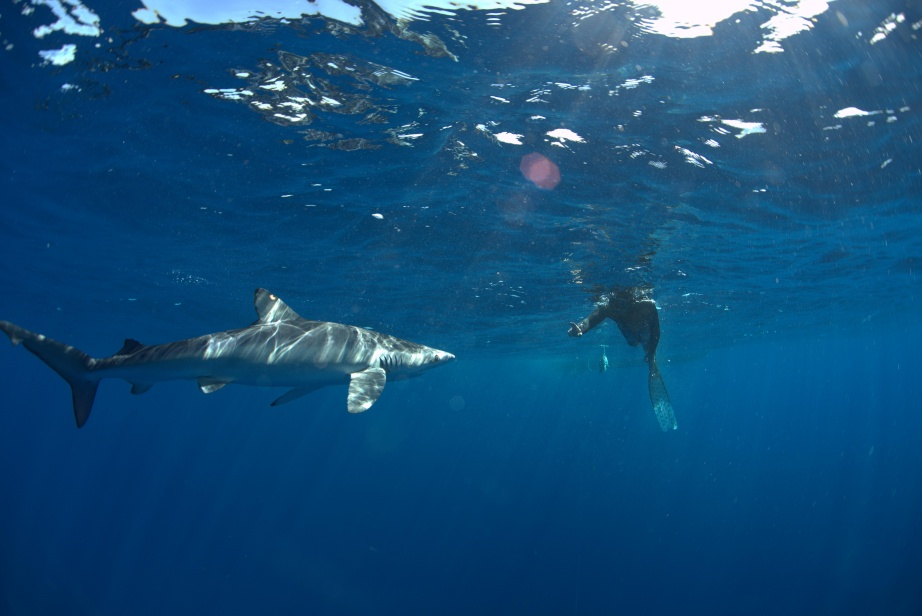Azul: (1, 277, 500, 447)
